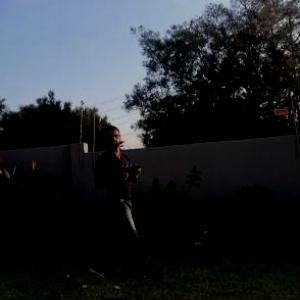follow: (88, 116, 161, 284)
